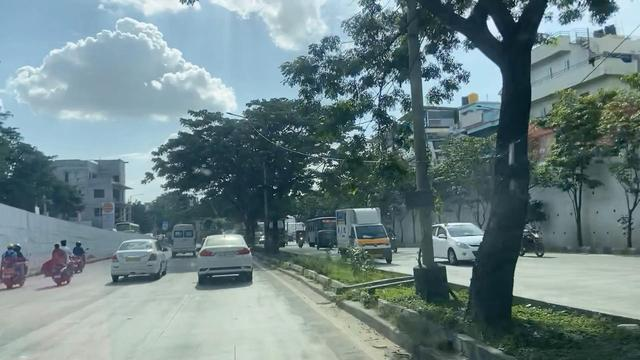LMV: (199, 232, 253, 278), (114, 238, 162, 276), (46, 239, 69, 280), (5, 243, 28, 281), (73, 239, 89, 273)
